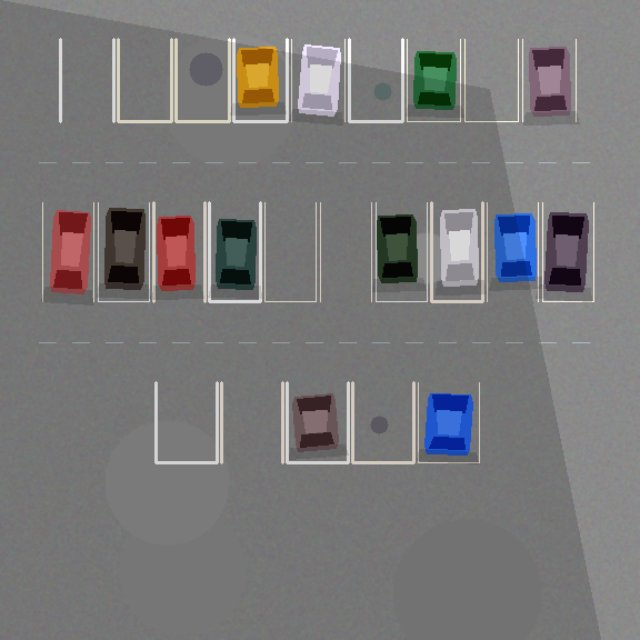space-empty: (264, 202, 316, 301), (320, 202, 371, 301), (156, 382, 217, 462), (221, 382, 282, 462), (352, 382, 413, 462), (464, 39, 518, 121), (60, 39, 113, 121), (118, 39, 171, 121), (176, 39, 229, 121), (349, 39, 402, 121)
space-occupied: (42, 202, 93, 301), (98, 202, 149, 301), (153, 202, 204, 301), (209, 202, 260, 301), (376, 202, 427, 301), (431, 202, 482, 301), (487, 202, 538, 301), (542, 202, 593, 301), (287, 382, 348, 462), (418, 382, 479, 462), (233, 39, 287, 121), (522, 39, 576, 121), (291, 39, 344, 121), (407, 39, 460, 121)
